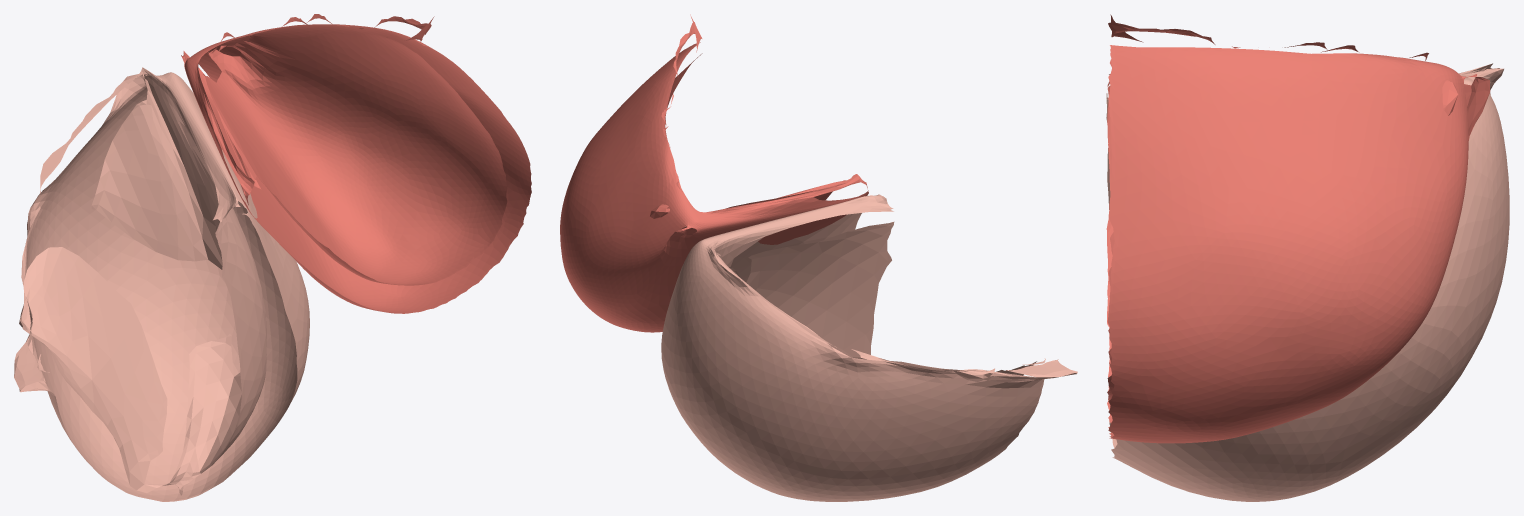
File: valvola_aortica_interno.glb
The picture shows the model from 3 angles, left to right: view 1: azimuth 30°, elevation 25°; view 2: azimuth 150°, elevation 25°; view 3: azimuth 270°, elevation 25°; orthographic projection. The views are drawn at different scales.
Visible parts, largest first — view 1: right posterior cusp of aortic valve, left posterior cusp of aortic valve; view 2: right posterior cusp of aortic valve, left posterior cusp of aortic valve; view 3: left posterior cusp of aortic valve, right posterior cusp of aortic valve.
Boxes of the visible parts, bbox=[...] form: right posterior cusp of aortic valve: bbox=[14, 67, 309, 501]; left posterior cusp of aortic valve: bbox=[181, 14, 531, 313]; right posterior cusp of aortic valve: bbox=[661, 194, 1077, 501]; left posterior cusp of aortic valve: bbox=[560, 14, 868, 332]; left posterior cusp of aortic valve: bbox=[1106, 14, 1490, 443]; right posterior cusp of aortic valve: bbox=[1106, 63, 1509, 501].
Size of the model in its own units: 28.03 by 22.66 by 13.54.
